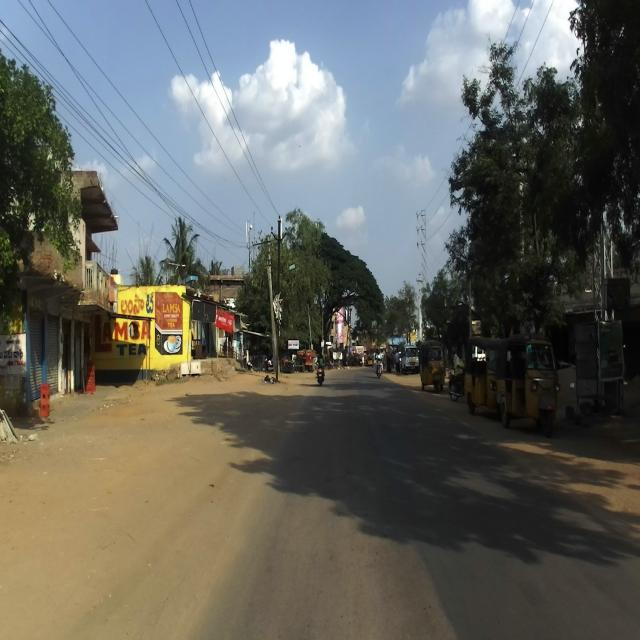autorickshaw: (496, 333, 558, 439)
